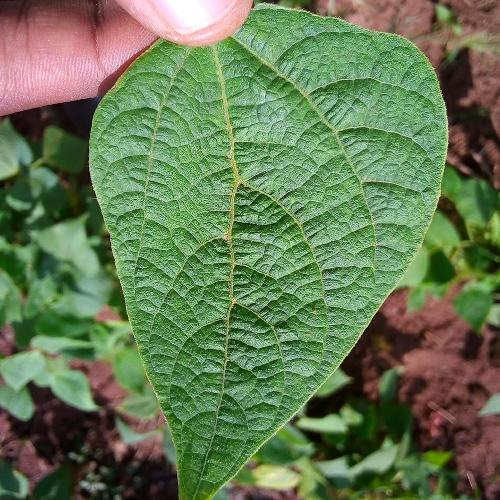mozaik: (164, 61, 342, 353)
